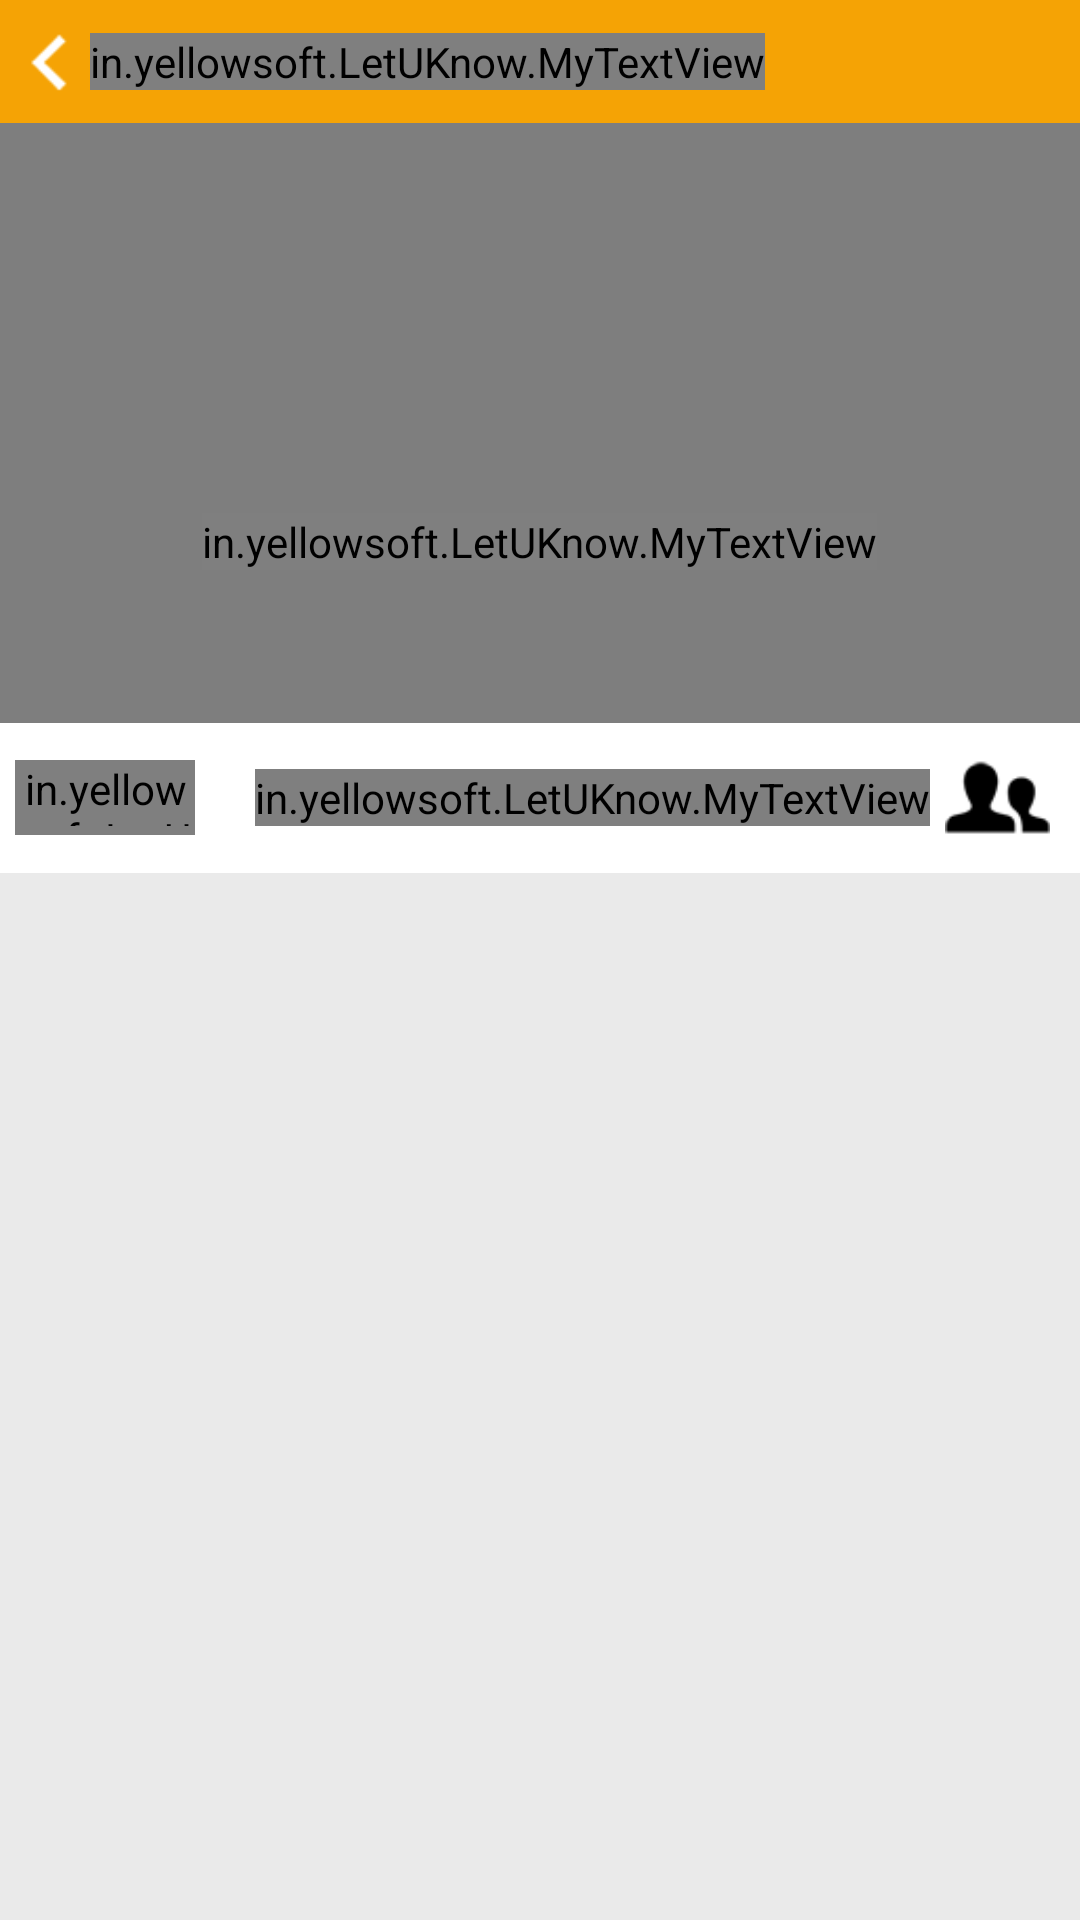

Where icons sit on this 1080x1920 app screen, as (x1, y1, x2, y2):
back: (31, 34, 67, 91)
members: (945, 761, 1050, 834)
